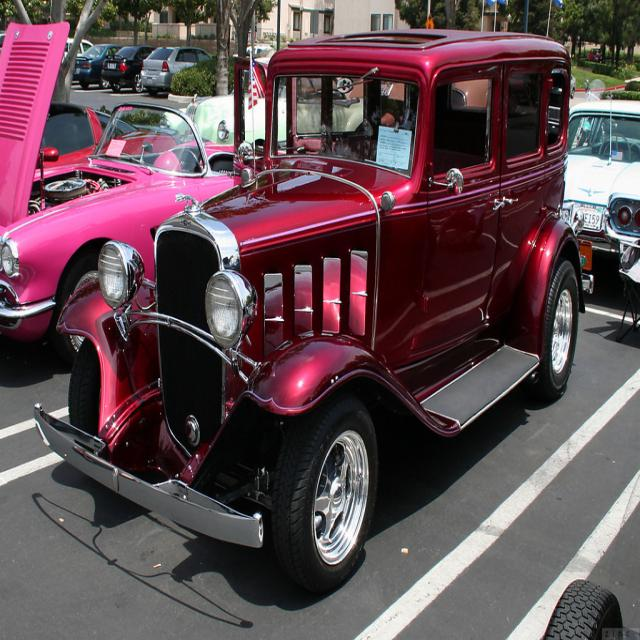car: (57, 33, 575, 608), (140, 39, 220, 96)
